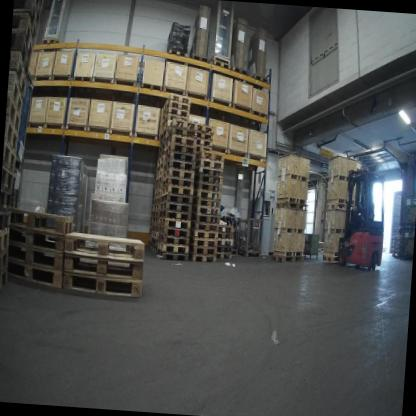forklift: (333, 156, 392, 275)
pallet: (63, 230, 145, 261), (61, 272, 143, 301), (9, 207, 75, 239), (5, 238, 64, 272), (62, 255, 144, 279), (10, 225, 71, 250), (5, 262, 62, 287), (10, 30, 32, 76), (12, 13, 35, 56), (8, 52, 30, 96), (6, 74, 26, 119), (14, 0, 38, 37), (159, 114, 189, 139), (161, 92, 192, 116), (161, 100, 192, 122), (161, 108, 189, 131), (6, 97, 23, 134), (156, 234, 190, 252), (163, 134, 195, 153), (275, 198, 310, 215), (4, 120, 21, 154), (164, 129, 196, 147), (166, 119, 196, 138), (165, 142, 192, 163), (163, 151, 194, 169), (2, 142, 19, 174), (163, 160, 196, 176), (163, 166, 193, 183), (159, 200, 192, 215), (16, 0, 41, 19), (167, 46, 189, 67), (0, 248, 12, 285), (157, 242, 190, 255), (0, 209, 15, 237), (194, 150, 224, 164), (194, 156, 224, 170), (161, 184, 191, 198), (0, 228, 13, 260), (209, 55, 232, 73), (193, 166, 225, 178), (158, 219, 190, 231), (159, 209, 191, 221), (160, 194, 192, 206), (156, 251, 190, 262), (192, 181, 223, 193), (162, 178, 193, 190), (192, 190, 222, 202), (158, 225, 188, 237), (0, 186, 13, 213), (251, 74, 270, 92), (190, 222, 221, 233), (273, 253, 305, 263), (189, 245, 218, 256), (323, 203, 354, 213), (190, 206, 221, 216), (189, 231, 220, 241), (319, 251, 341, 265), (194, 174, 222, 185), (189, 52, 209, 67), (231, 65, 251, 80), (190, 214, 220, 224), (2, 166, 14, 190), (0, 272, 9, 303), (189, 254, 214, 265), (191, 199, 221, 208), (41, 36, 60, 50), (189, 239, 218, 247), (218, 237, 234, 250), (197, 123, 214, 135), (216, 245, 234, 256), (216, 230, 232, 242), (195, 138, 213, 148), (196, 130, 213, 140), (216, 252, 231, 262), (194, 146, 213, 153), (154, 168, 164, 181), (219, 225, 233, 234), (155, 175, 166, 186), (158, 142, 168, 154), (160, 123, 168, 137), (151, 203, 161, 214), (155, 162, 164, 174), (157, 155, 165, 167), (391, 252, 403, 259), (160, 131, 167, 143), (157, 149, 166, 158), (390, 243, 403, 249), (155, 182, 162, 192), (153, 192, 161, 200), (160, 137, 167, 146), (152, 210, 159, 219), (150, 238, 157, 247), (391, 248, 403, 253), (153, 197, 160, 205), (151, 218, 159, 225), (392, 236, 403, 241), (150, 245, 157, 252), (392, 240, 403, 244), (150, 225, 157, 231), (152, 230, 157, 238), (37, 0, 43, 3)
stillage: (235, 214, 266, 258), (218, 214, 244, 259), (396, 227, 415, 262), (399, 192, 416, 229)
